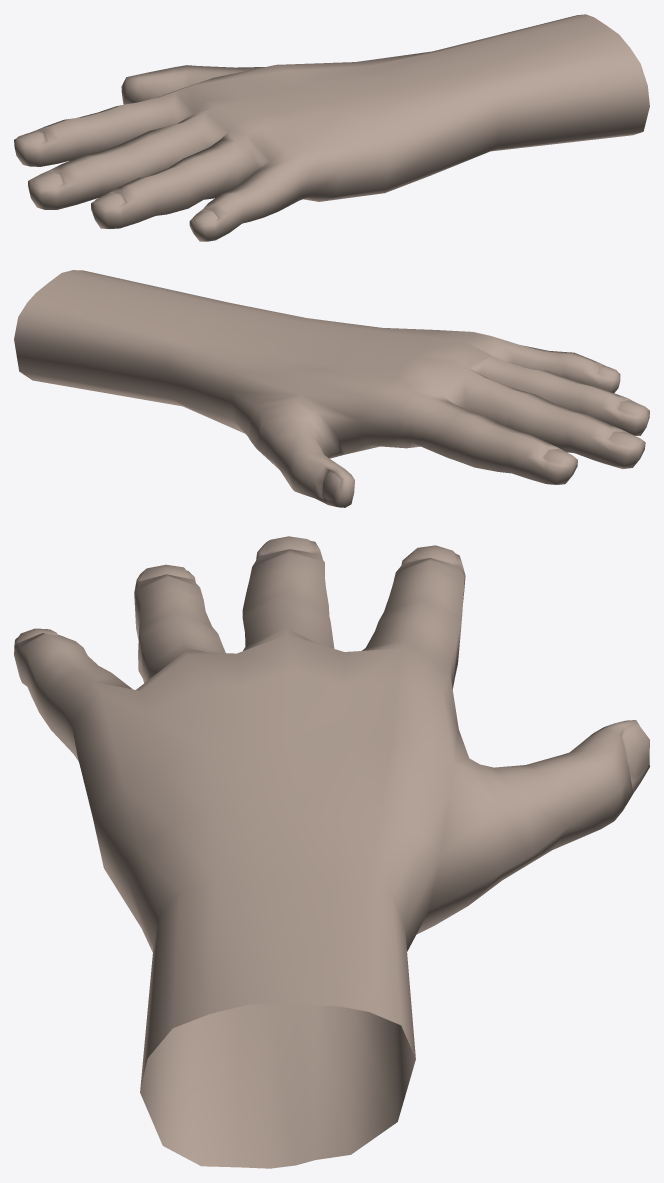
File: hand.dae
3 views of the same model, one above another, from view 1: azimuth 30°, elevation 25°; view 2: azimuth 150°, elevation 25°; view 3: azimuth 270°, elevation 25° (orthographic). The views are drawn at different scales.
Parts seen in each view (by area): view 1: Hand; view 2: Hand; view 3: Hand.
Boxes of the visible parts, left/top/right/bottom form: Hand: left=14, top=14, right=649, bottom=241; Hand: left=14, top=270, right=649, bottom=507; Hand: left=14, top=536, right=649, bottom=1168.
Bounding box in the file's own units: 0.256 × 0.1369 × 0.0457.
